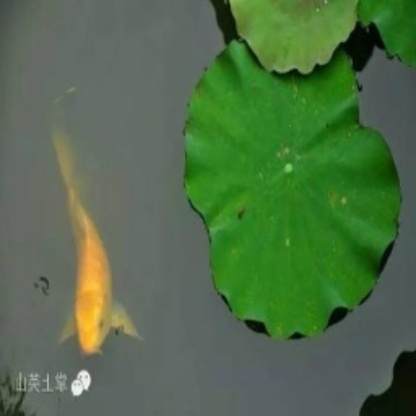leaf: (185, 55, 401, 341)
